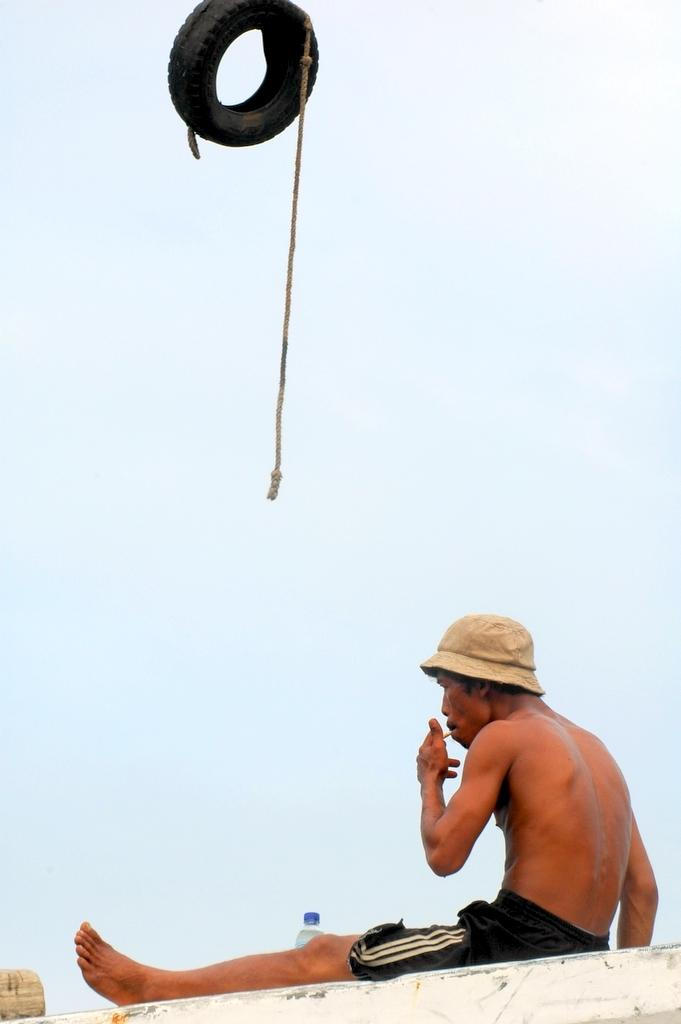Hat: (420, 604, 540, 688)
